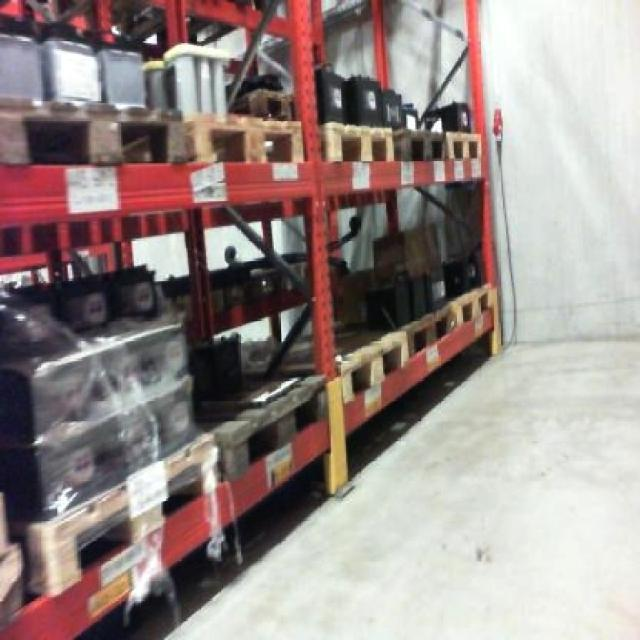pallets: (237, 32, 289, 118)
